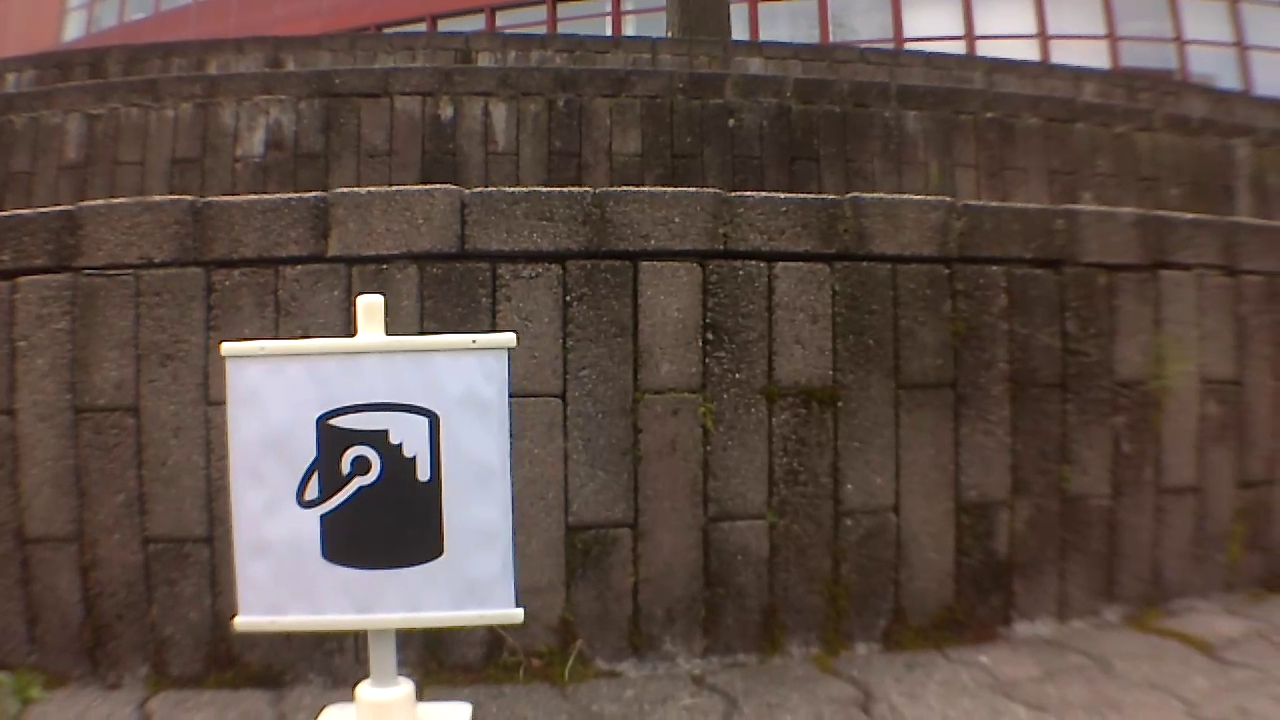bucket: (292, 394, 451, 569)
